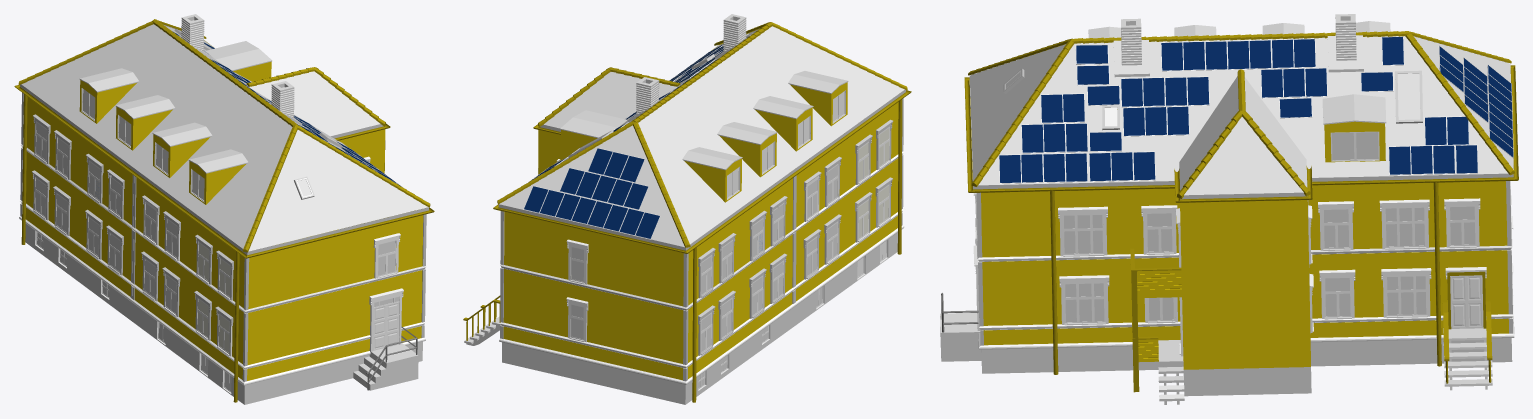
Rendered from house_panel_2_0110.glb.
The picture shows the model from 3 angles, left to right: view 1: azimuth 30°, elevation 25°; view 2: azimuth 150°, elevation 25°; view 3: azimuth 270°, elevation 25°; orthographic projection. The views are drawn at different scales.
Visible parts, largest first — view 1: SketchUp.874, SketchUp.871, SketchUp.865, SketchUp.002, SketchUp.511, SketchUp.484, SketchUp.001, SketchUp.872, SketchUp.015, SketchUp.057, SketchUp.052, SketchUp.734 (+19 smaller); view 2: SketchUp.874, SketchUp.871, SketchUp.002, SketchUp.865, SketchUp.484, SketchUp.511, SketchUp.001, SketchUp.872, SketchUp.057, SketchUp.052, SketchUp.734, SketchUp.522 (+30 smaller); view 3: SketchUp.874, SketchUp.871, SketchUp.868, SketchUp.865, SketchUp.002, SketchUp, SketchUp.511, SketchUp.872, SketchUp.734, SketchUp.057, SketchUp.484, SketchUp.019 (+72 smaller).
Boxes of the visible parts, x1,y1,x2,y2 form: SketchUp.874: (25,97,423,380); SketchUp.871: (21,24,428,251); SketchUp.865: (249,71,380,136); SketchUp.002: (25,224,422,404); SketchUp.511: (14,40,434,258); SketchUp.484: (19,216,425,385); SketchUp.001: (109,286,199,370); SketchUp.872: (20,84,428,255); SketchUp.015: (353,351,418,390); SketchUp.057: (20,200,425,369); SketchUp.052: (21,144,426,313); SketchUp.734: (205,41,272,70); SketchUp.874: (503,102,898,380); SketchUp.871: (499,26,904,247); SketchUp.002: (502,232,897,404); SketchUp.865: (544,72,677,128); SketchUp.484: (499,225,904,384); SketchUp.511: (493,48,911,253); SketchUp.001: (770,262,857,343); SketchUp.872: (498,89,905,250); SketchUp.057: (499,209,903,368); SketchUp.052: (500,153,902,310); SketchUp.734: (560,110,626,138); SketchUp.522: (790,82,847,126); SketchUp.874: (981,109,1508,345); SketchUp.871: (969,36,1513,185); SketchUp.868: (1180,200,1310,369); SketchUp.865: (1179,76,1307,195); SketchUp.002: (981,338,1512,373); SketchUp: (1183,366,1311,396); SketchUp.511: (964,65,1518,192); SketchUp.872: (969,77,1513,189); SketchUp.734: (1322,94,1386,124); SketchUp.057: (975,218,1513,330); SketchUp.484: (975,240,1514,349); SketchUp.019: (1137,270,1181,298).
Bounding box in the file's own units: 13.74 × 13.47 × 22.92.
